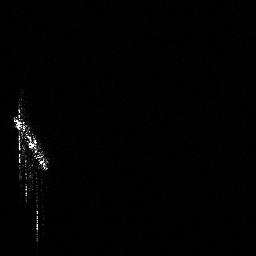ship: (10, 92, 53, 244)
